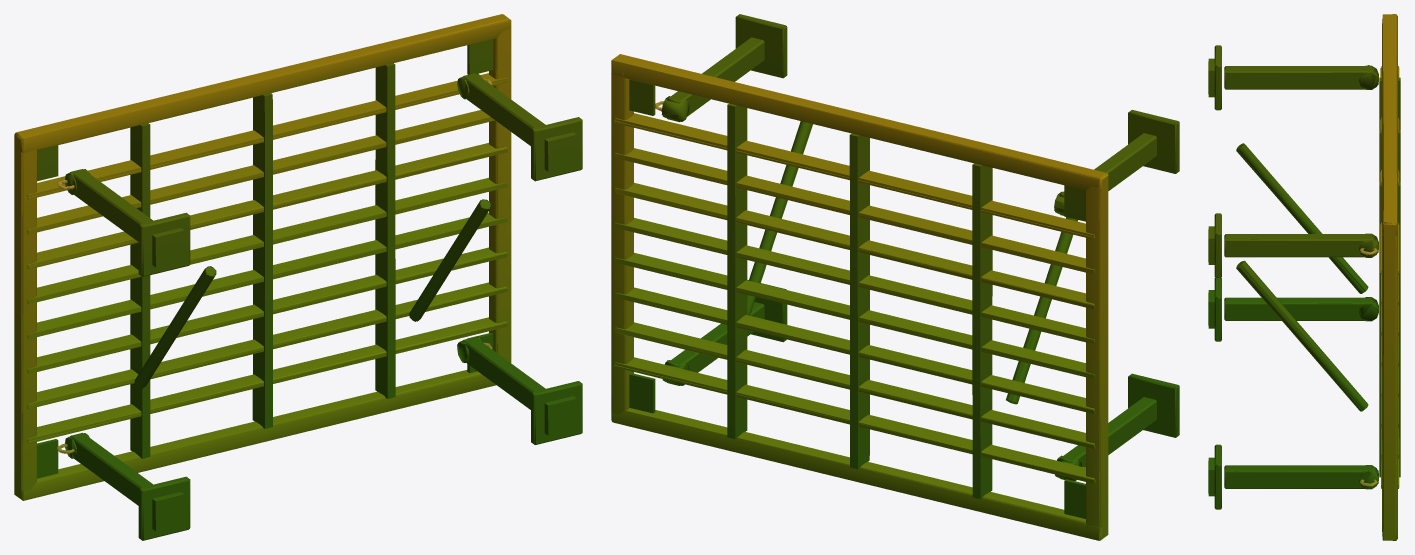
Rendered from RCLModule_heavy_artillery_martian_iron_rust_era_LODs.fbx.
3 views of the same model, side by side, from view 1: azimuth 30°, elevation 25°; view 2: azimuth 150°, elevation 25°; view 3: azimuth 270°, elevation 25° (orthographic). The views are drawn at different scales.
Parts seen in each view (by area): view 1: LOD1_RCLModule_heavy_artillery_martian_iron_rust_era_Batch_R (×2), LOD2_RCLModule_heavy_artillery_martian_iron_rust_era_Batch_R (×2); view 2: LOD1_RCLModule_heavy_artillery_martian_iron_rust_era_Batch_R (×2), LOD2_RCLModule_heavy_artillery_martian_iron_rust_era_Batch_R (×2); view 3: LOD1_RCLModule_heavy_artillery_martian_iron_rust_era_Batch_R (×2), LOD2_RCLModule_heavy_artillery_martian_iron_rust_era_Batch_R (×2).
Part boxes in pixels (bbox=[...]): LOD1_RCLModule_heavy_artillery_martian_iron_rust_era_Batch_R (×2): bbox=[14, 14, 582, 540]; LOD2_RCLModule_heavy_artillery_martian_iron_rust_era_Batch_R (×2): bbox=[15, 14, 582, 540]; LOD1_RCLModule_heavy_artillery_martian_iron_rust_era_Batch_R (×2): bbox=[611, 14, 1179, 540]; LOD2_RCLModule_heavy_artillery_martian_iron_rust_era_Batch_R (×2): bbox=[611, 16, 1179, 540]; LOD1_RCLModule_heavy_artillery_martian_iron_rust_era_Batch_R (×2): bbox=[1208, 14, 1400, 540]; LOD2_RCLModule_heavy_artillery_martian_iron_rust_era_Batch_R (×2): bbox=[1215, 14, 1399, 540].
Bounding box in the file's own units: 68 × 48.2 × 26.31.
